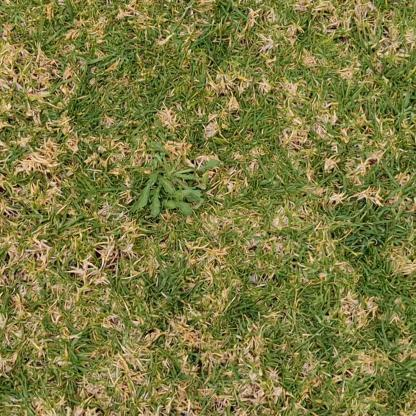Weeds: (138, 141, 221, 218)
